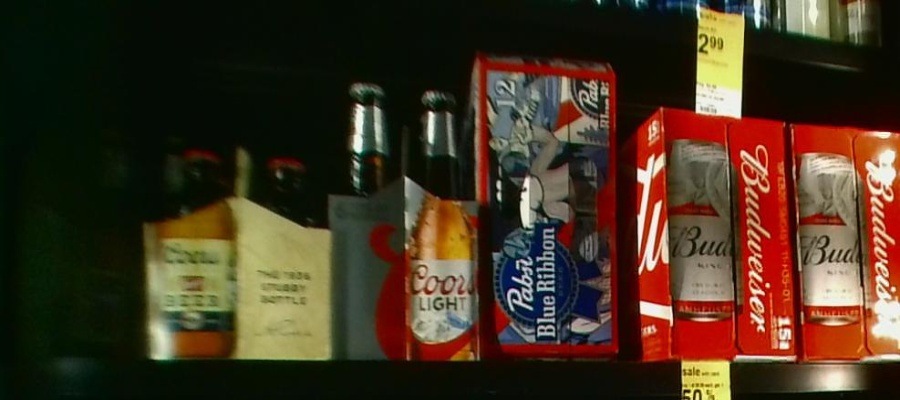bottle: (479, 54, 619, 357), (624, 112, 792, 360), (330, 83, 478, 361), (143, 140, 330, 359), (23, 115, 141, 353), (792, 123, 900, 363)
